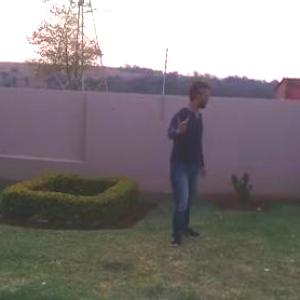takeoff-hand: (171, 108, 194, 141)
